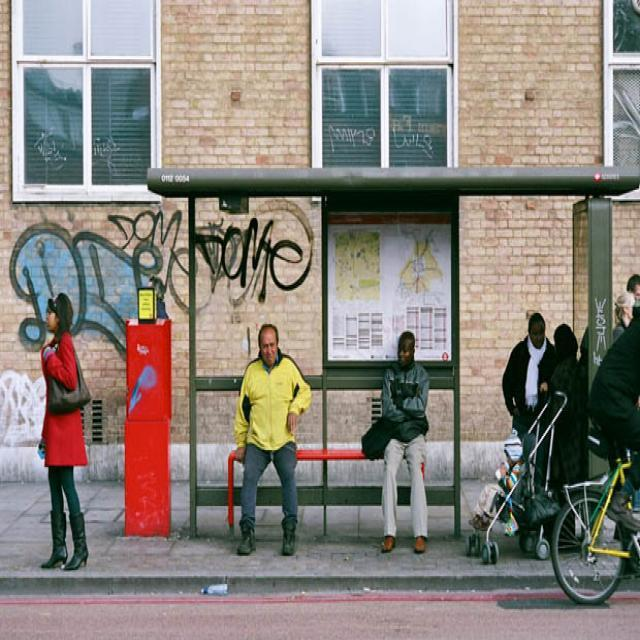bareface: (46, 296, 74, 332), (255, 326, 278, 368), (398, 337, 411, 368), (533, 321, 545, 347)
